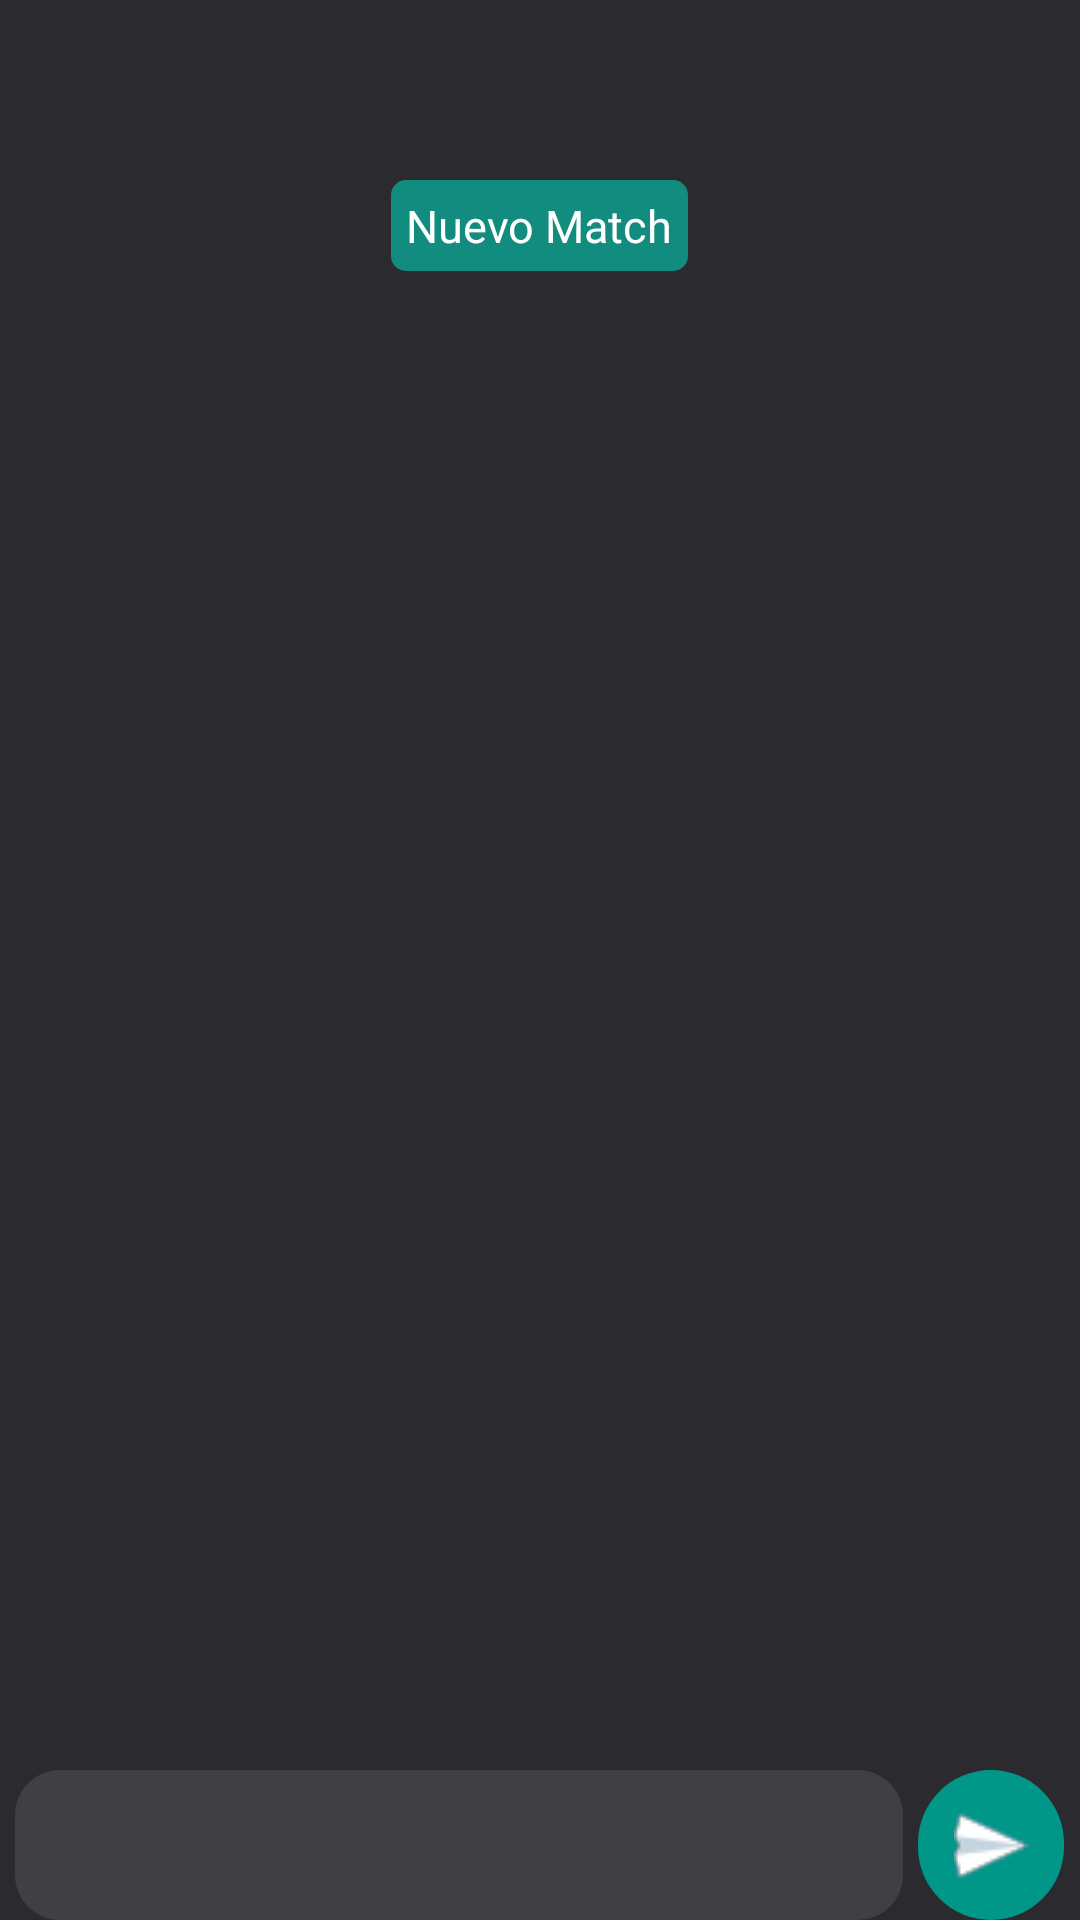

Screen size 1080×1920. Icon name, then its box in pixels as [x1, y1, x2, y2]:
enviar: [918, 1770, 1064, 1920]
